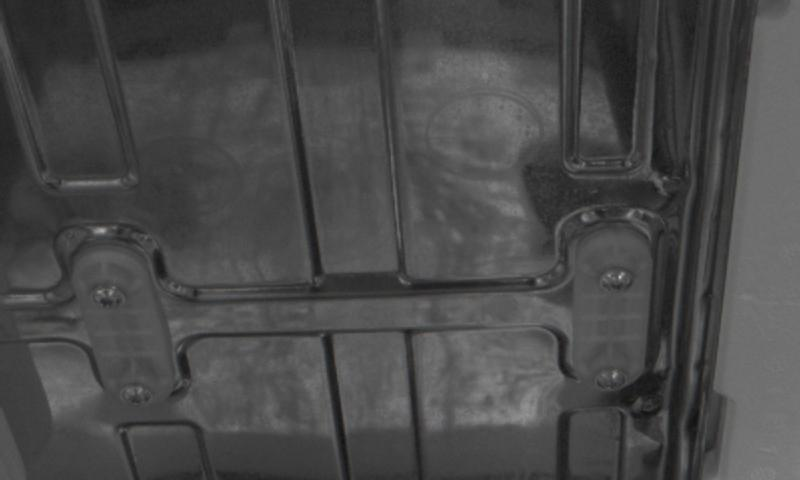vida-ok: (598, 257, 642, 302), (88, 273, 128, 318), (114, 378, 157, 418), (592, 358, 632, 397)
